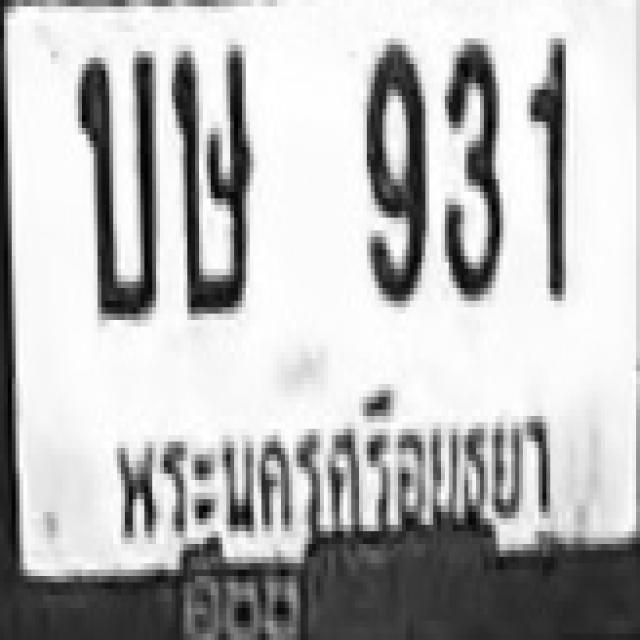1: (523, 35, 566, 298)
3: (441, 32, 499, 294)
9: (363, 38, 425, 301)
A26: (74, 44, 156, 314)
A39: (168, 39, 250, 308)
AYA: (108, 382, 568, 549)
